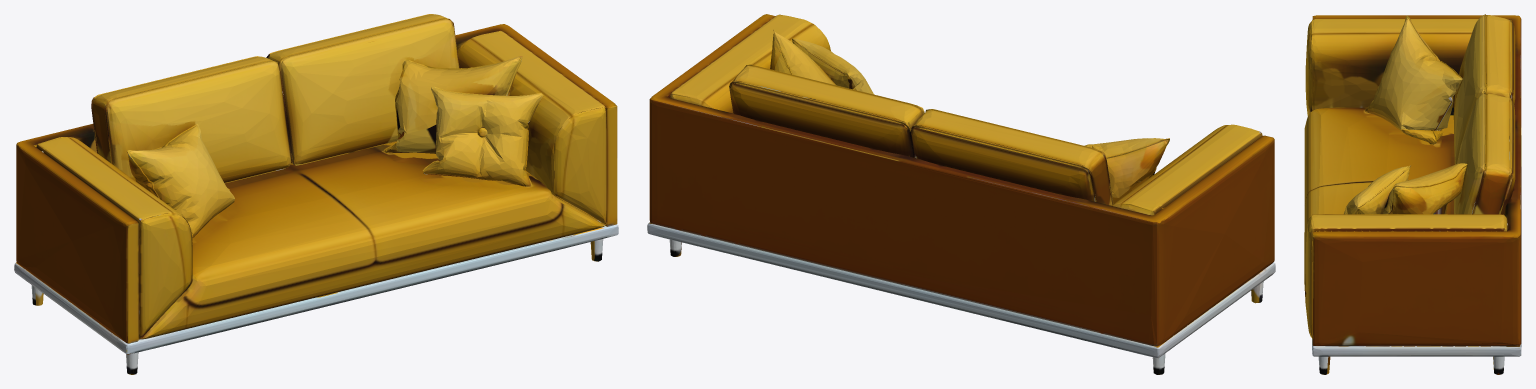
Rendered from edited_mesh.glb.
The picture shows the model from 3 angles, left to right: view 1: azimuth 30°, elevation 25°; view 2: azimuth 150°, elevation 25°; view 3: azimuth 270°, elevation 25°; orthographic projection. The views are drawn at different scales.
Visible parts, largest first — view 1: solid_001_wire; view 2: solid_001_wire; view 3: solid_001_wire.
Part boxes in pixels (x1,y1,x2,y2): solid_001_wire: (14, 14, 618, 374); solid_001_wire: (647, 14, 1275, 374); solid_001_wire: (1304, 14, 1521, 374).
Bounding box in the file's own units: 2 × 0.7464 × 0.8192.
Materials: 1 (1 with a texture image).
